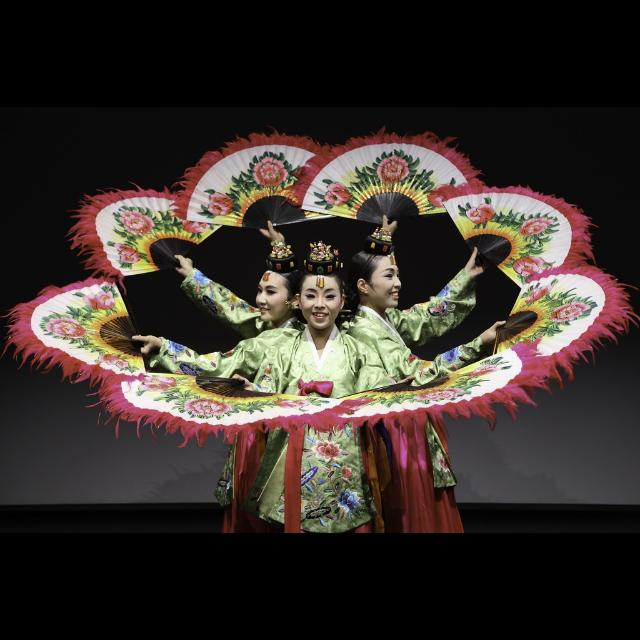head: (346, 250, 402, 310), (295, 269, 347, 331), (256, 268, 304, 324)
